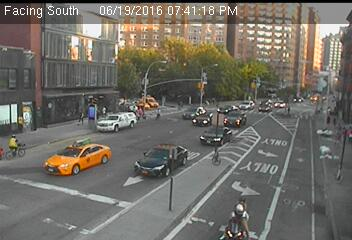neg: (223, 190, 256, 235)
pos: (74, 109, 88, 127)
